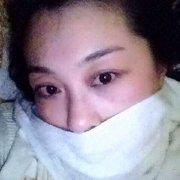WRONG: (28, 43, 157, 172)
